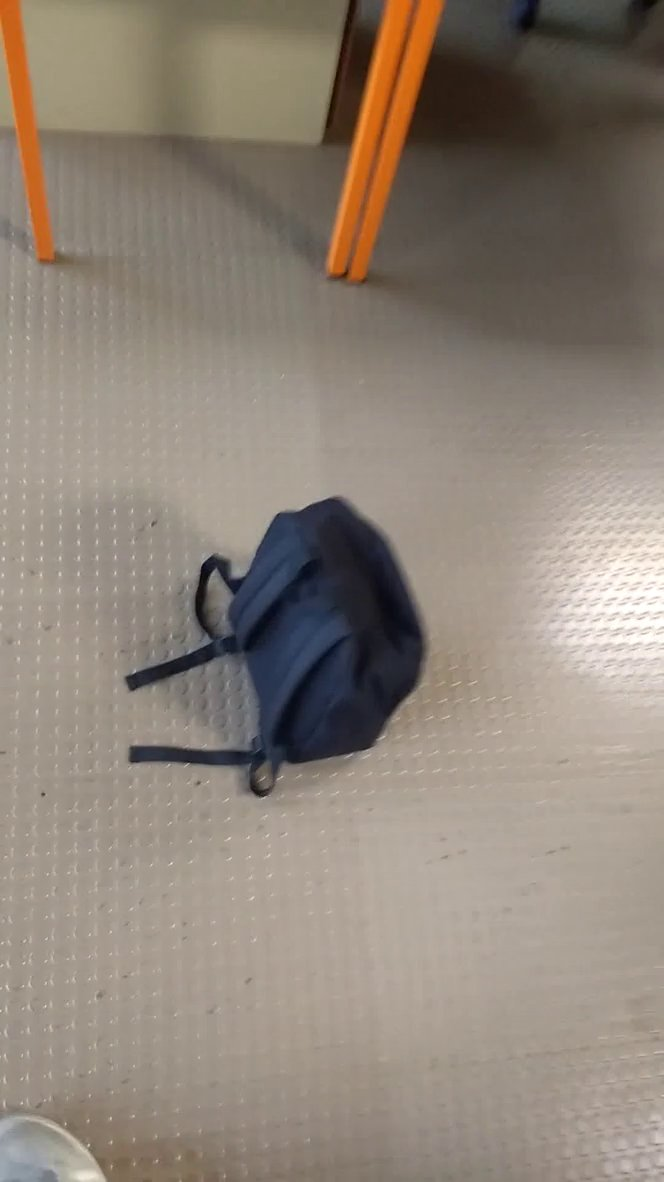bag: (119, 479, 439, 818)
